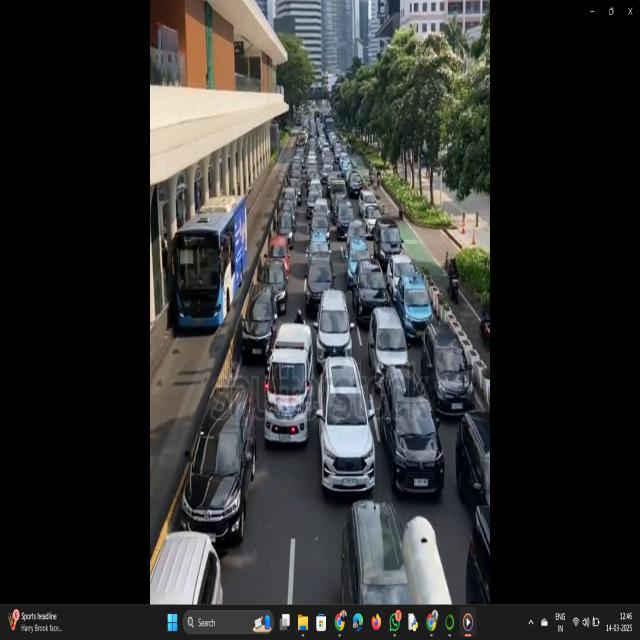Ambulance: (266, 313, 315, 456)
